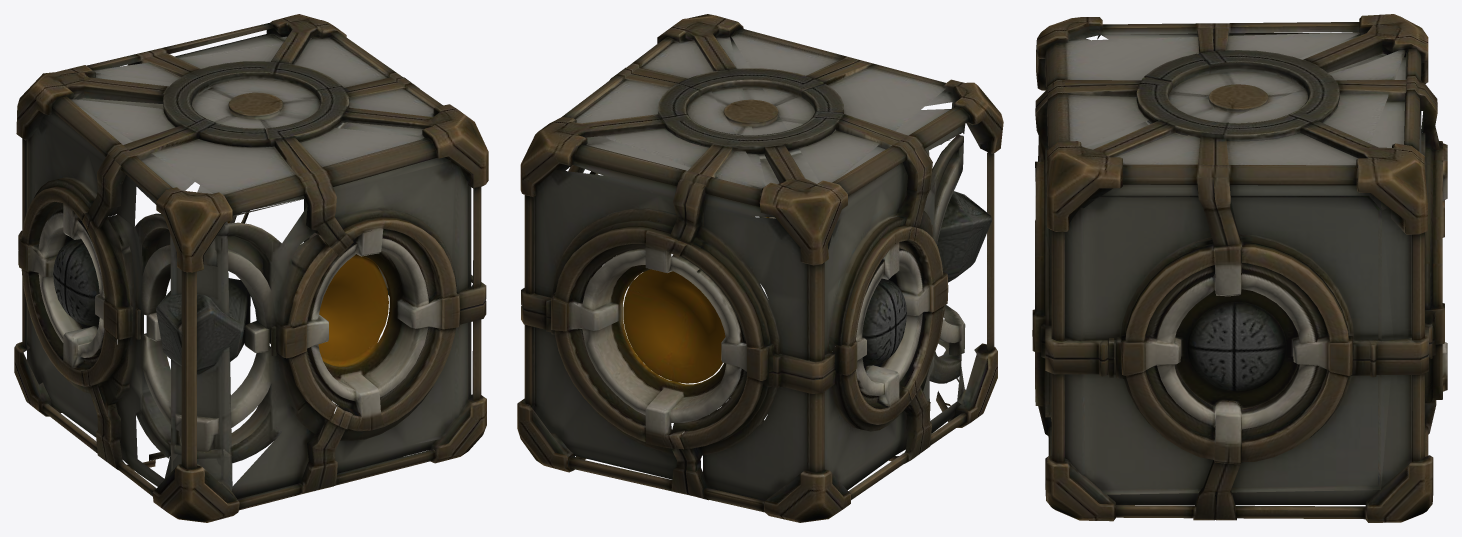
Rendered from gray-box-prism.glb.
The picture shows the model from 3 angles, left to right: view 1: azimuth 30°, elevation 25°; view 2: azimuth 150°, elevation 25°; view 3: azimuth 270°, elevation 25°; orthographic projection. The views are drawn at different scales.
Visible parts, largest first — view 1: bc73786c_cea5_48b1_b765_6400e4ddc26a; view 2: bc73786c_cea5_48b1_b765_6400e4ddc26a; view 3: bc73786c_cea5_48b1_b765_6400e4ddc26a.
Boxes of the visible parts, bbox=[...] form: bc73786c_cea5_48b1_b765_6400e4ddc26a: bbox=[14, 14, 488, 522]; bc73786c_cea5_48b1_b765_6400e4ddc26a: bbox=[517, 14, 1003, 522]; bc73786c_cea5_48b1_b765_6400e4ddc26a: bbox=[1032, 14, 1447, 522].
Size of the model in its own units: 0.9878 by 0.9614 by 0.9995.
1 material, 1 textured.
